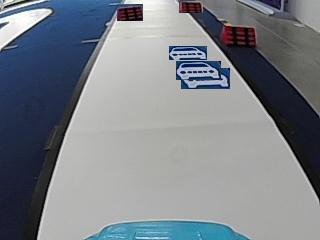bomb: (219, 24, 256, 45)
